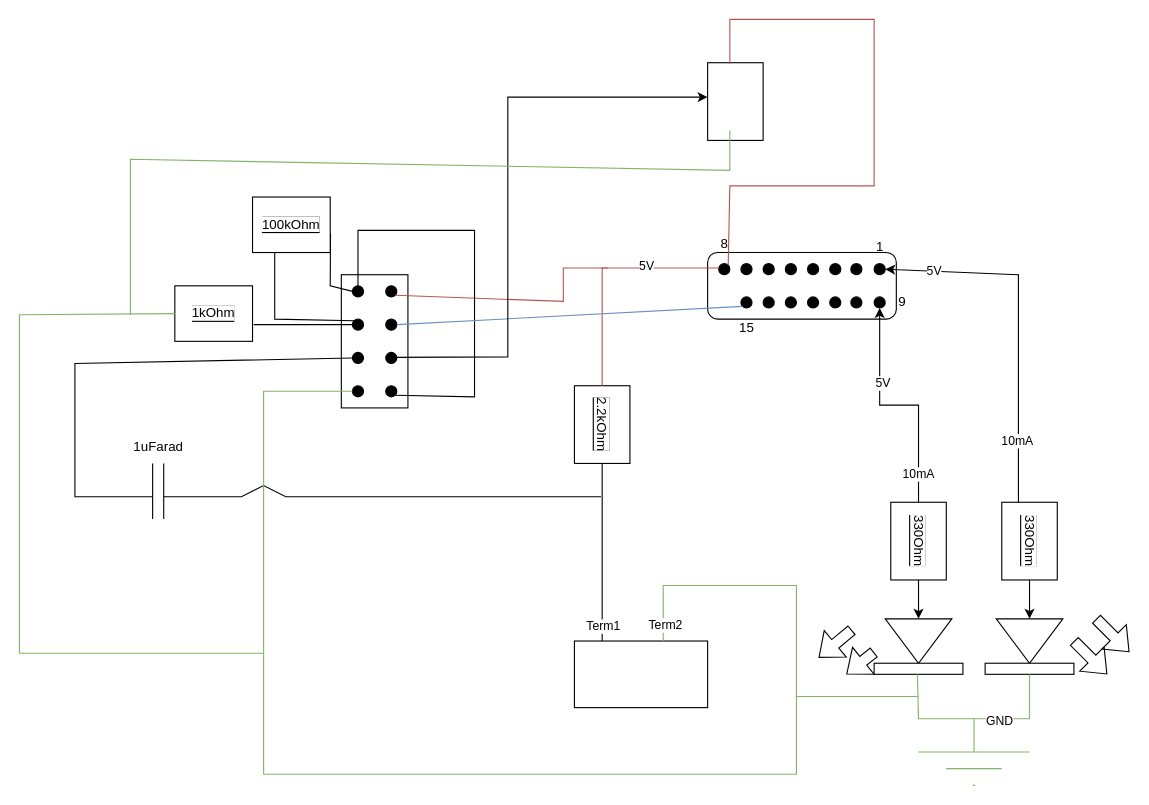
Image size: 1149x805. Some labels were removed from this diagram. The shapes that lost their labels are listed below. From the top down, each one's centre as x and y in pixels, then its label:
the point at 735,101: 10k
the point at 640,674: Micro
